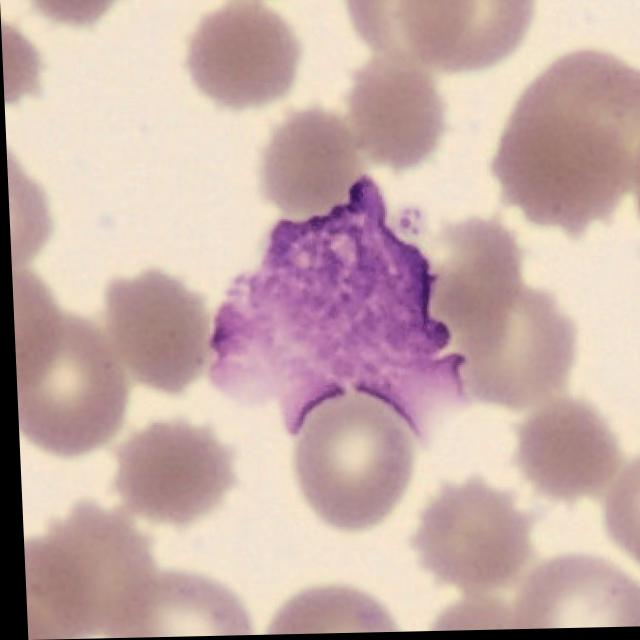Restos celulares: (207, 177, 465, 434)
